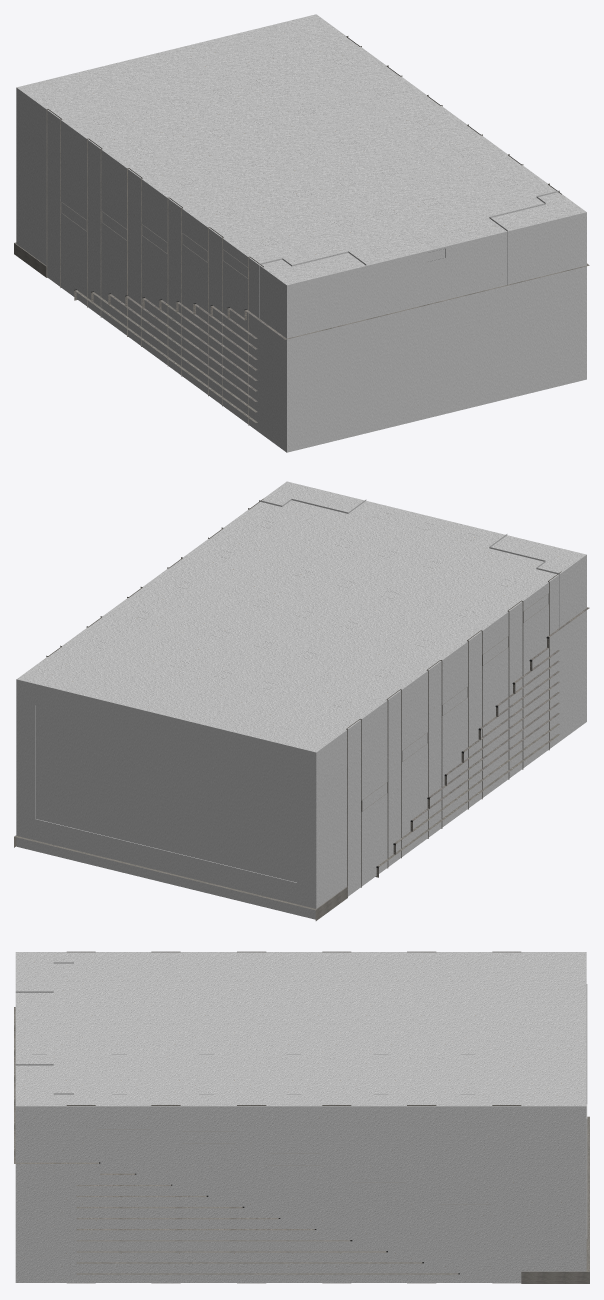
File: cinema.gltf
3 views of the same model, one above another, from view 1: azimuth 30°, elevation 25°; view 2: azimuth 150°, elevation 25°; view 3: azimuth 270°, elevation 25° (orthographic). The views are drawn at different scales.
Visible parts, largest first — view 1: GeometryNode_42, GeometryNode_124, GeometryNode_66; view 2: GeometryNode_42, GeometryNode_66, GeometryNode_124; view 3: GeometryNode_42, GeometryNode_124, GeometryNode_66, GeometryNode_103.
Part boxes in pixels (x1,y1,x2,y2): GeometryNode_42: (16,14,586,452); GeometryNode_124: (74,263,589,422); GeometryNode_66: (14,36,561,425); GeometryNode_42: (16,481,586,919); GeometryNode_66: (14,498,561,920); GeometryNode_124: (375,607,589,877); GeometryNode_42: (15,952,586,1282); GeometryNode_124: (14,1007,459,1274); GeometryNode_66: (66,951,589,1283); GeometryNode_103: (586,984,587,1238).
Size of the model in its own units: 17.23 by 9.2 by 26.73.
10 materials, 5 textured.
